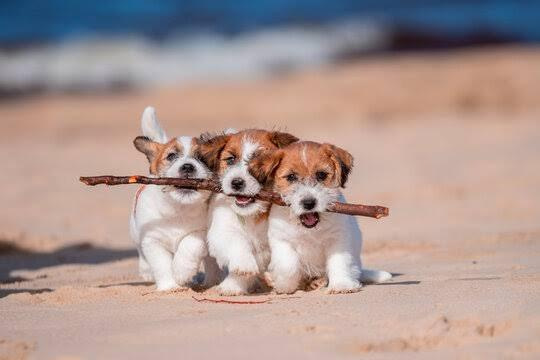puppy-dog: (260, 141, 393, 295), (192, 126, 299, 297), (130, 104, 216, 293)
